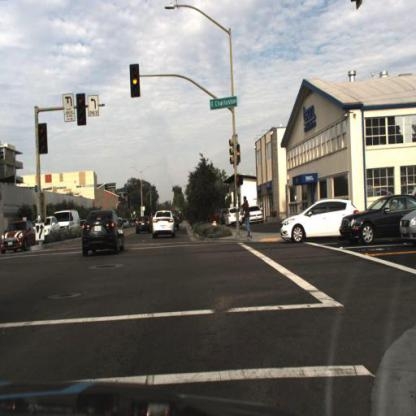car: (342, 190, 416, 249), (281, 199, 361, 245), (81, 208, 127, 259), (1, 220, 38, 252), (150, 210, 177, 242), (53, 210, 83, 237), (34, 217, 61, 242), (133, 215, 153, 240), (225, 208, 243, 231), (227, 208, 243, 231)
pedestrian: (241, 194, 253, 242)
trafficLight-RedLeft: (76, 91, 87, 127), (36, 120, 47, 154)
trafficLight-Yellow: (130, 63, 141, 97), (236, 139, 242, 168)
